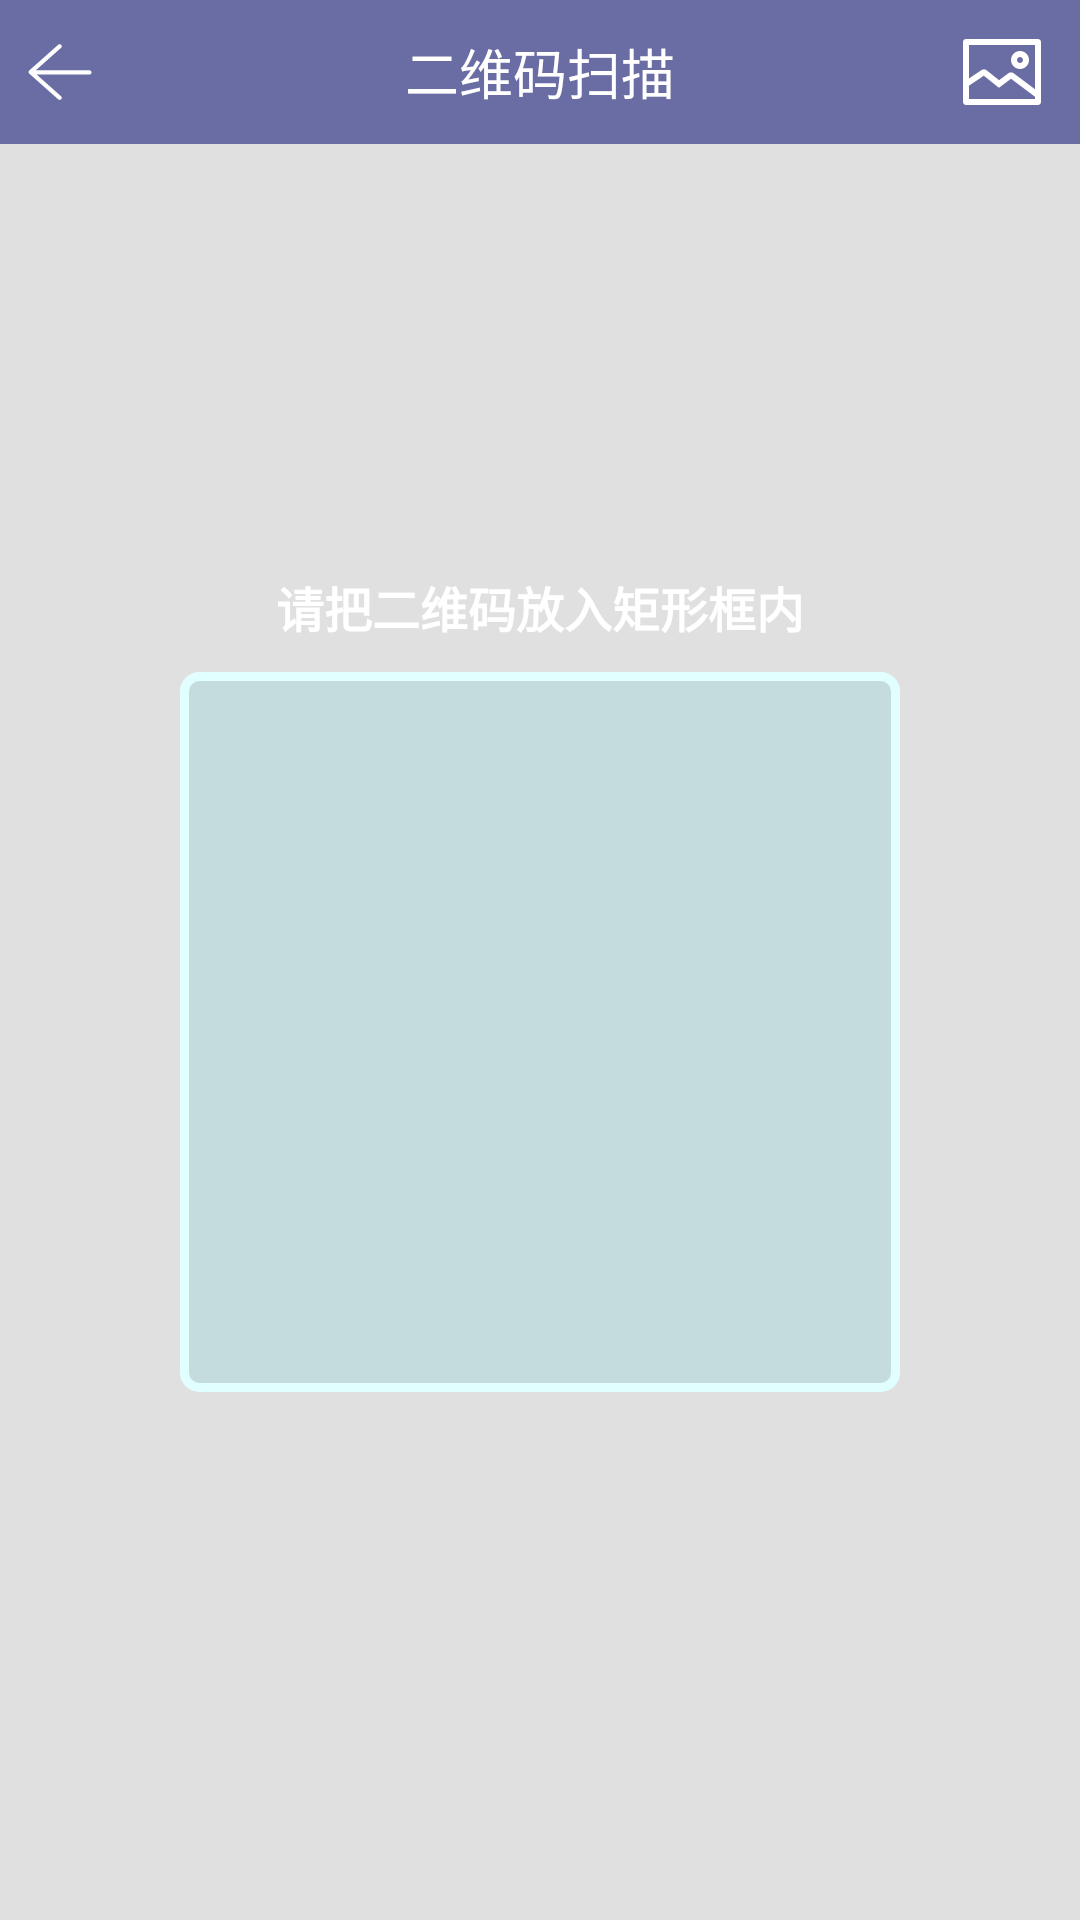

Named icons in this screenshot (1080px x 1920px) and their bounding boxes, [x1, y1, x2, y2]:
back: [28, 44, 92, 100]
photo: [963, 39, 1041, 105]
